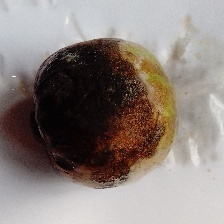guava: (55, 40, 197, 183)
